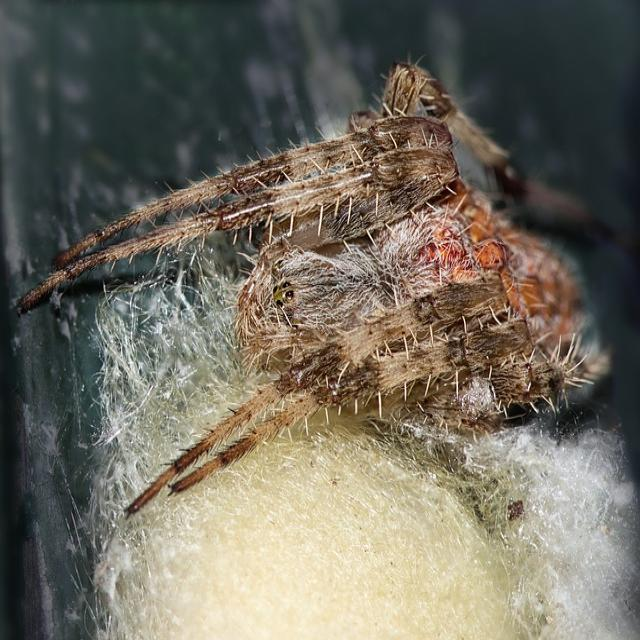spyder: (19, 63, 606, 514)
